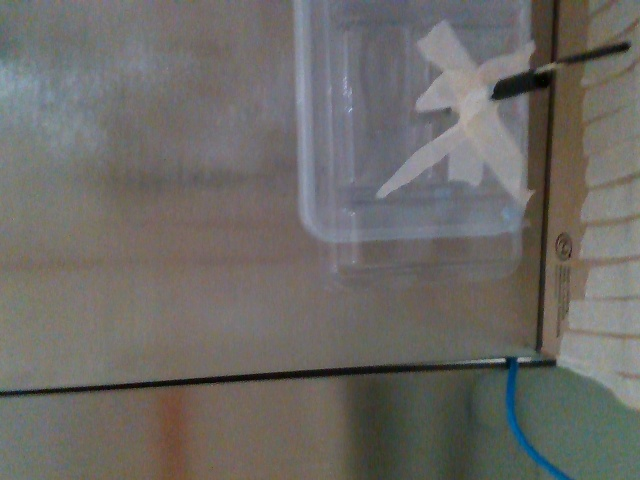test_strip: (533, 38, 628, 72)
